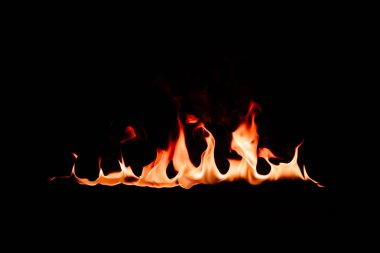fire: (68, 136, 319, 193)
